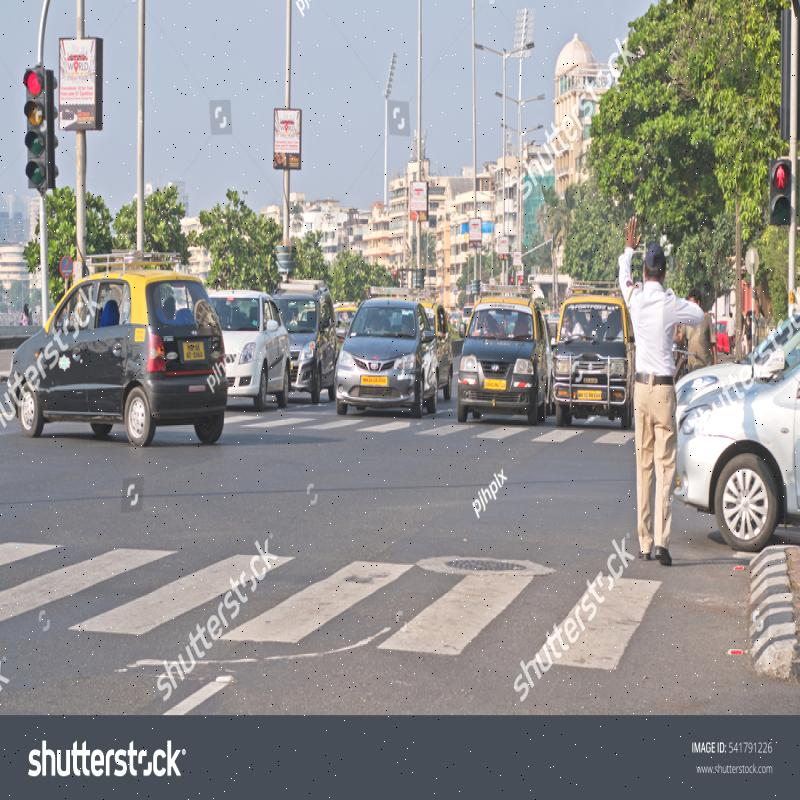car: (14, 263, 230, 477), (331, 296, 437, 448)
